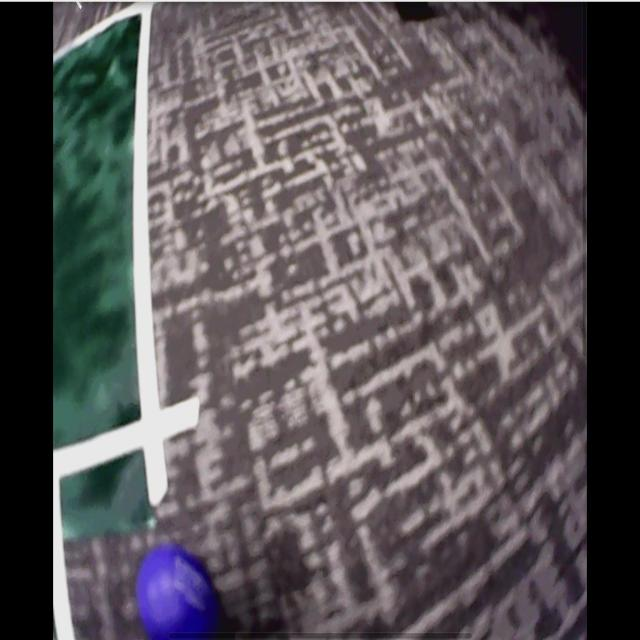ball: (141, 548, 215, 640)
